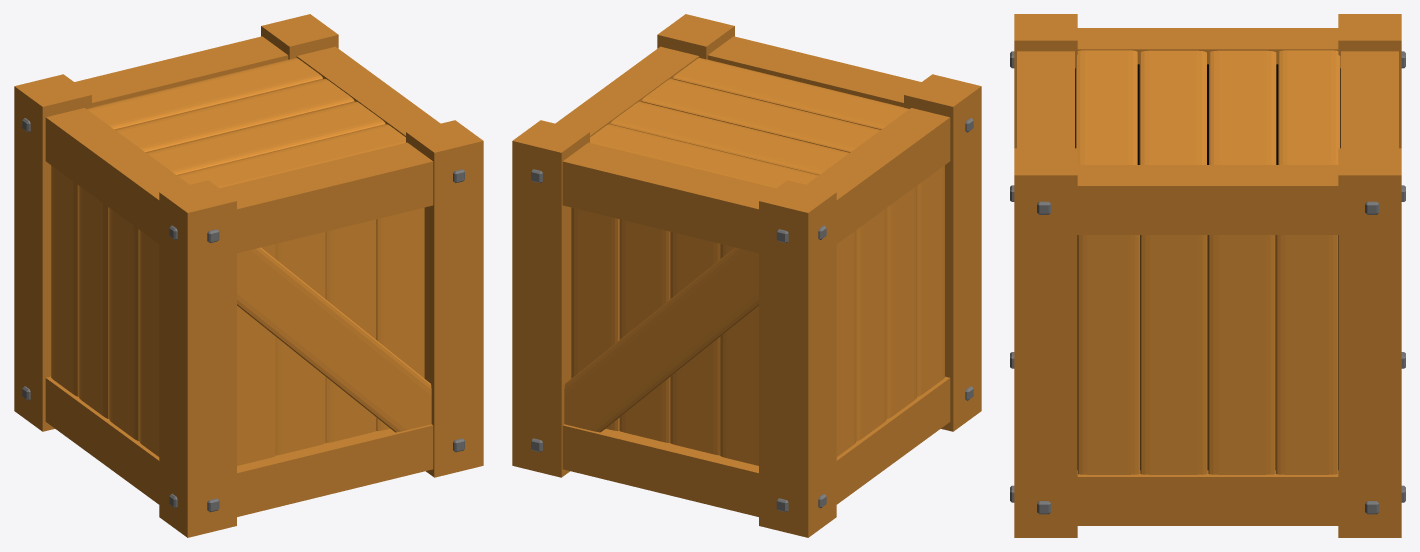
Rendered from Crate.glb.
3 renders of one model, left to right at view 1: azimuth 30°, elevation 25°; view 2: azimuth 150°, elevation 25°; view 3: azimuth 270°, elevation 25°, orthographic. The views are drawn at different scales.
Parts seen in each view (by area): view 1: upright, horezontal, horezontal2, plank.006, plank.005, plank.001, plank.003, plank.004, plank.002, plank, Nail; view 2: upright, horezontal, horezontal2, plank.006, plank.005, plank.001, plank.003, plank.004, plank.002, plank, Nail; view 3: upright, horezontal2, plank.001, plank, plank.003, plank.002, horezontal, backing, Nail.001, Nail.
Part boxes in pixels (x1,y1,x2,y2): upright: (14, 14, 483, 537); horezontal: (74, 36, 433, 516); horezontal2: (45, 46, 440, 504); plank.006: (237, 247, 431, 432); plank.005: (275, 219, 376, 455); plank.001: (79, 186, 139, 441); plank.003: (115, 79, 385, 174); plank.004: (237, 207, 424, 465); plank.002: (86, 58, 405, 188); plank: (51, 165, 159, 456); Nail: (207, 169, 464, 512); upright: (512, 14, 981, 537); horezontal: (562, 36, 921, 516); horezontal2: (555, 46, 950, 504); plank.006: (564, 247, 758, 432); plank.005: (619, 219, 720, 455); plank.001: (856, 186, 916, 441); plank.003: (610, 79, 880, 174); plank.004: (571, 207, 758, 465); plank.002: (590, 58, 909, 188); plank: (836, 165, 944, 456); Nail: (531, 169, 788, 512); upright: (1014, 14, 1401, 537); horezontal2: (1077, 28, 1338, 525); plank.001: (1140, 235, 1275, 474); plank: (1078, 235, 1337, 474); plank.003: (1139, 50, 1276, 164); plank.002: (1075, 50, 1340, 164); horezontal: (1017, 51, 1398, 148); backing: (1075, 64, 1340, 469); Nail.001: (1037, 201, 1378, 514); Nail: (1010, 51, 1405, 502).
Bounding box in the file's own units: 1.82 × 1.87 × 1.85.
